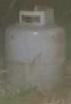cylinder: (1, 1, 71, 104)
